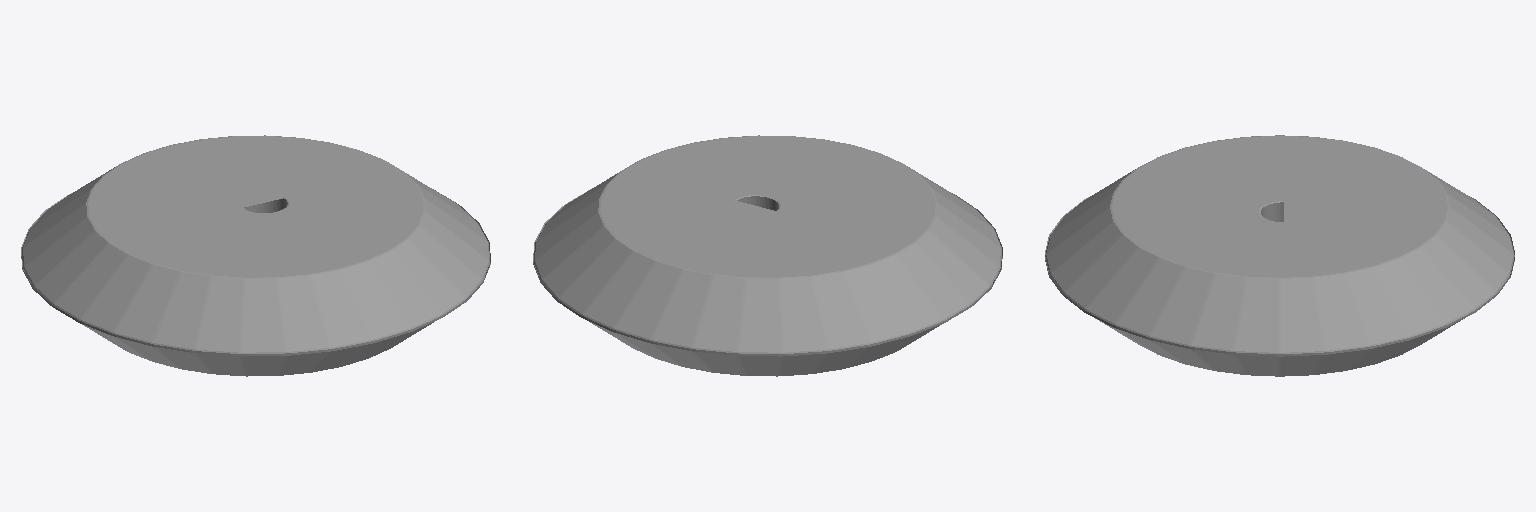
Rendered from gruz1o.obj.
The picture shows the model from 3 angles: view 1: azimuth 30°, elevation 25°; view 2: azimuth 150°, elevation 25°; view 3: azimuth 270°, elevation 25°; orthographic projection.
Visible parts, largest first — view 1: Cylinder.005_Cylinder.010; view 2: Cylinder.005_Cylinder.010; view 3: Cylinder.005_Cylinder.010.
Part boxes in pixels (x1,y1,x2,y2): Cylinder.005_Cylinder.010: (21,135,490,376); Cylinder.005_Cylinder.010: (533,135,1002,376); Cylinder.005_Cylinder.010: (1045,135,1514,376).
Size of the model in its own units: 0.3272 by 0.0754 by 0.3272.